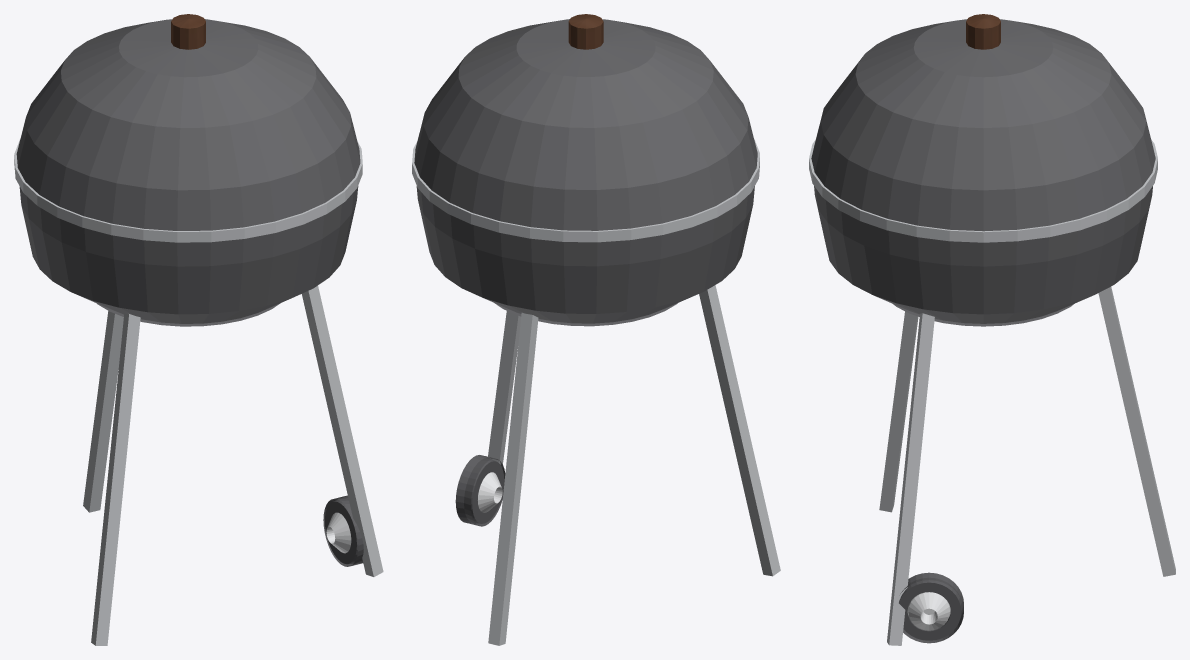
Rendered from churrasqueira.glb.
The picture shows the model from 3 angles, left to right: view 1: azimuth 30°, elevation 25°; view 2: azimuth 150°, elevation 25°; view 3: azimuth 270°, elevation 25°; orthographic projection.
Parts seen in each view (by area): view 1: churrasqueira_tampa_esmalte_escuro, churrasqueira_esmalte_escuro, churrasqueira_aco, churrasqueira_borracha, churrasqueira_tampa_madeira_escura, churrasqueira_cromo; view 2: churrasqueira_tampa_esmalte_escuro, churrasqueira_esmalte_escuro, churrasqueira_aco, churrasqueira_borracha, churrasqueira_tampa_madeira_escura, churrasqueira_cromo; view 3: churrasqueira_tampa_esmalte_escuro, churrasqueira_esmalte_escuro, churrasqueira_aco, churrasqueira_borracha, churrasqueira_cromo, churrasqueira_tampa_madeira_escura.
Boxes of the visible parts, x1=… form: churrasqueira_tampa_esmalte_escuro: x1=16, y1=19, x2=360, y2=230; churrasqueira_esmalte_escuro: x1=19, y1=186, x2=358, y2=326; churrasqueira_aco: x1=14, y1=139, x2=383, y2=645; churrasqueira_borracha: x1=323, y1=495, x2=363, y2=566; churrasqueira_tampa_madeira_escura: x1=171, y1=14, x2=205, y2=49; churrasqueira_cromo: x1=326, y1=512, x2=351, y2=553; churrasqueira_tampa_esmalte_escuro: x1=414, y1=19, x2=757, y2=230; churrasqueira_esmalte_escuro: x1=416, y1=186, x2=754, y2=326; churrasqueira_aco: x1=412, y1=139, x2=780, y2=645; churrasqueira_borracha: x1=455, y1=455, x2=505, y2=526; churrasqueira_tampa_madeira_escura: x1=568, y1=14, x2=603, y2=49; churrasqueira_cromo: x1=478, y1=472, x2=502, y2=512; churrasqueira_tampa_esmalte_escuro: x1=811, y1=19, x2=1155, y2=231; churrasqueira_esmalte_escuro: x1=814, y1=186, x2=1152, y2=326; churrasqueira_aco: x1=809, y1=139, x2=1175, y2=645; churrasqueira_borracha: x1=899, y1=572, x2=963, y2=643; churrasqueira_cromo: x1=907, y1=592, x2=950, y2=630; churrasqueira_tampa_madeira_escura: x1=966, y1=14, x2=1000, y2=49.
Size of the model in its own units: 0.6 by 1.06 by 0.6307.
Materials: 6 (1 with a texture image).
